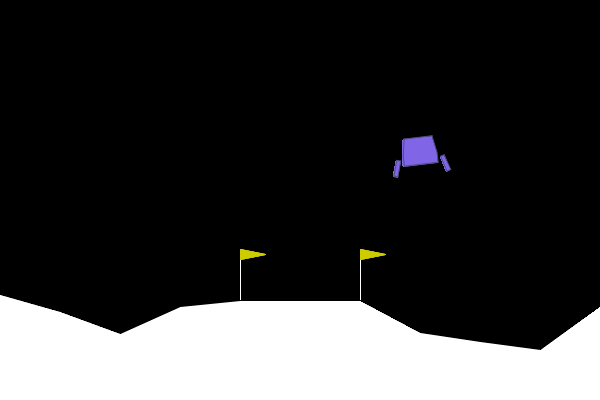lander: (388, 132, 452, 179)
